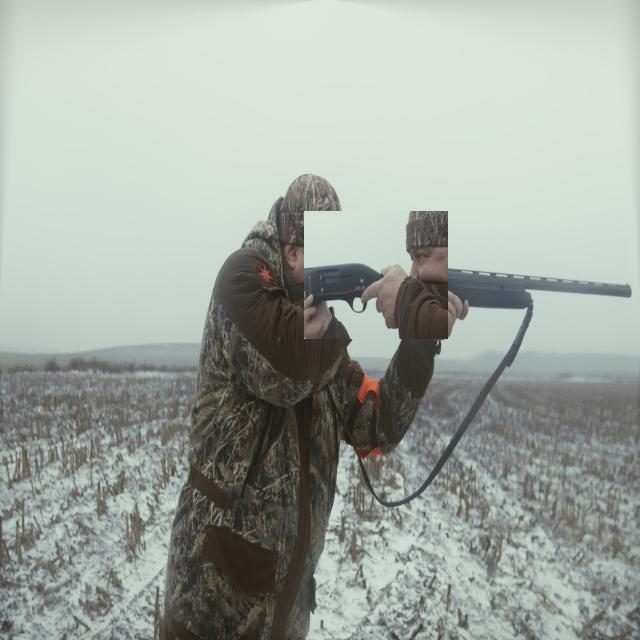poacher: (232, 216, 382, 604)
weapon: (304, 211, 448, 339)
